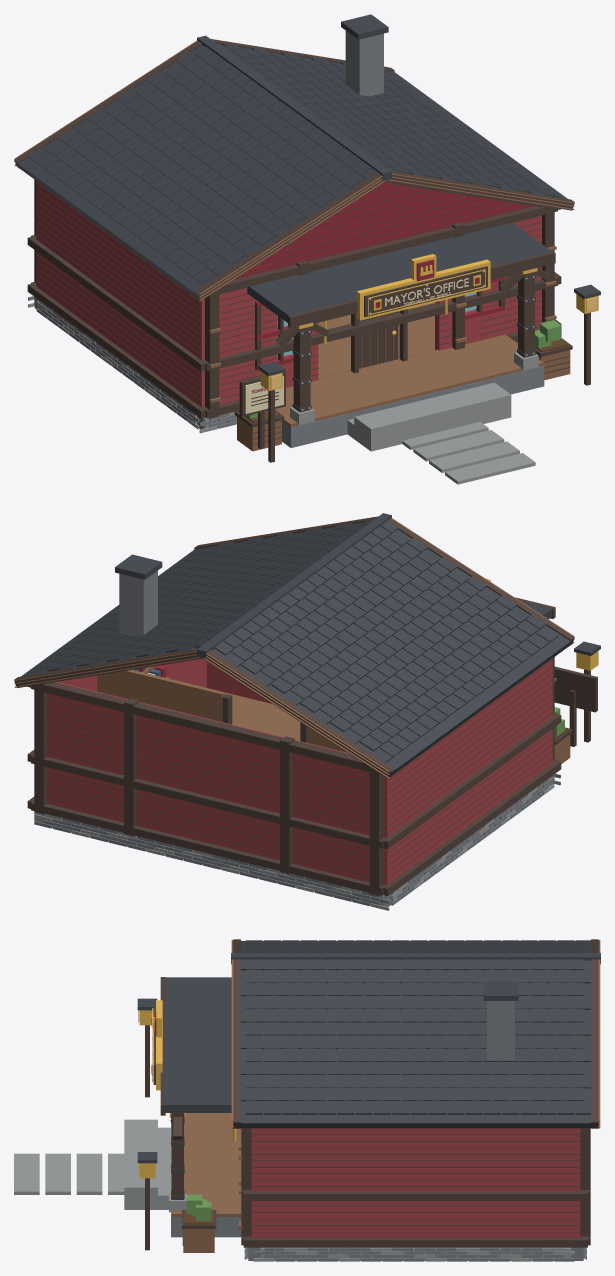
The model's file is MayorHouse_Architecture.fbx.
The picture shows the model from 3 angles, top to bottom: view 1: azimuth 30°, elevation 25°; view 2: azimuth 150°, elevation 25°; view 3: azimuth 270°, elevation 25°; orthographic projection.
Parts seen in each view (by area): view 1: Roof_Material_2, Roof_Material_0, Architecture_Material_5, Architecture_Material_3, Architecture_Material_1, Roof_Material_1, Roof_Material_3, Architecture_Material_2, Architecture_Material_0, Exterior_Decor_Material_9, Roof_Material_5, Exterior_Decor_Material_4 (+8 smaller); view 2: Architecture_Material_3, Roof_Material_2, Architecture_Material_5, Roof_Material_0, Roof_Material_1, Architecture_Material_0, Furnishings_Material_0, Roof_Material_5, Architecture_Material_2, Exterior_Decor_Material_4, Roof_Material_4, Architecture_Material_1; view 3: Roof_Material_2, Roof_Material_0, Architecture_Material_3, Architecture_Material_5, Architecture_Material_2, Architecture_Material_1, Architecture_Material_0, Exterior_Decor_Material_9, Roof_Material_1, Roof_Material_4, Roof_Material_5, Exterior_Decor_Material_4 (+5 smaller).
Boxes of the visible parts, x1,y1,x2,y2 form: Roof_Material_2: [28, 14, 558, 284]; Roof_Material_0: [16, 44, 567, 322]; Architecture_Material_5: [27, 179, 561, 425]; Architecture_Material_3: [36, 181, 541, 407]; Architecture_Material_1: [209, 246, 556, 427]; Roof_Material_1: [14, 39, 574, 327]; Roof_Material_3: [234, 182, 533, 279]; Architecture_Material_2: [28, 297, 538, 451]; Architecture_Material_0: [28, 296, 544, 447]; Exterior_Decor_Material_9: [402, 422, 535, 484]; Roof_Material_5: [14, 39, 574, 301]; Exterior_Decor_Material_4: [234, 312, 590, 462]; Architecture_Material_3: [47, 658, 552, 884]; Roof_Material_2: [28, 513, 558, 762]; Architecture_Material_5: [27, 657, 561, 895]; Roof_Material_0: [21, 519, 573, 776]; Roof_Material_1: [14, 516, 574, 777]; Architecture_Material_0: [34, 773, 560, 906]; Furnishings_Material_0: [97, 665, 347, 752]; Roof_Material_5: [14, 516, 574, 778]; Architecture_Material_2: [34, 774, 560, 910]; Exterior_Decor_Material_4: [554, 666, 597, 746]; Roof_Material_4: [119, 570, 157, 636]; Architecture_Material_1: [225, 678, 556, 751]; Roof_Material_2: [231, 940, 600, 1114]; Roof_Material_0: [163, 940, 595, 1127]; Architecture_Material_3: [251, 1128, 580, 1238]; Architecture_Material_5: [153, 1005, 590, 1247]; Architecture_Material_2: [124, 1119, 586, 1261]; Architecture_Material_1: [171, 1113, 242, 1228]; Architecture_Material_0: [171, 1123, 586, 1261]; Exterior_Decor_Material_9: [14, 1153, 124, 1194]; Roof_Material_1: [160, 939, 598, 1128]; Roof_Material_4: [487, 1001, 514, 1060]; Roof_Material_5: [231, 940, 600, 1128]; Exterior_Decor_Material_4: [145, 1025, 216, 1250].
Size of the model in its own units: 1934 by 1195 by 2625.
